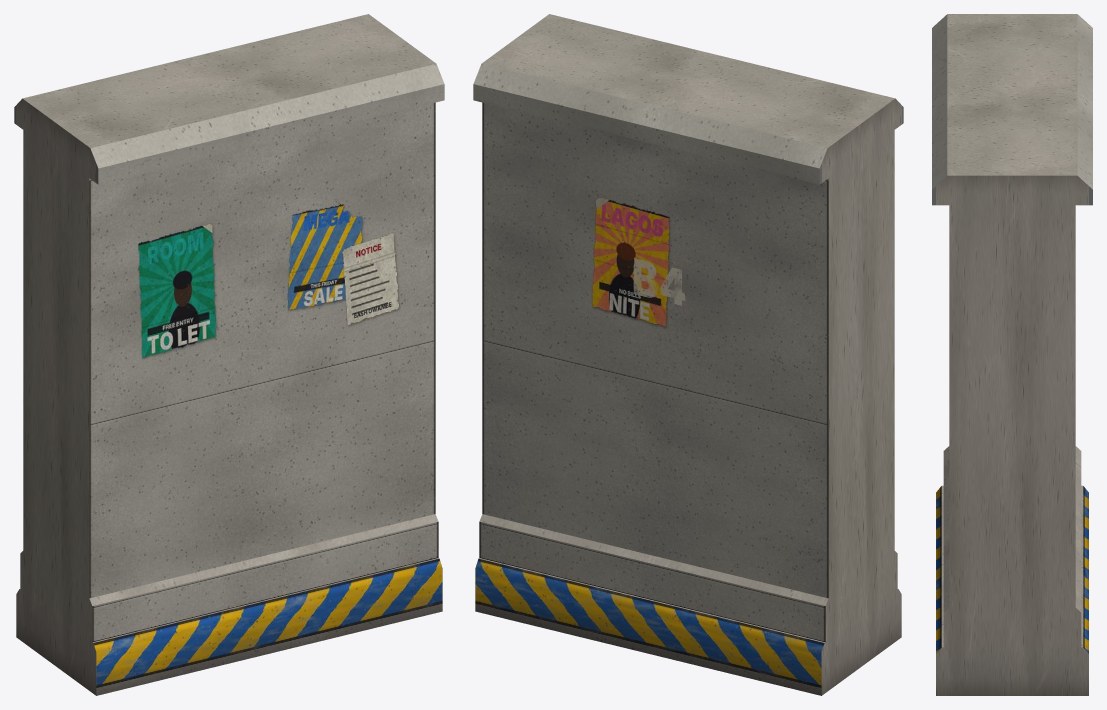
File: env_wall.glb
3 renders of one model, left to right at view 1: azimuth 30°, elevation 25°; view 2: azimuth 150°, elevation 25°; view 3: azimuth 270°, elevation 25°, orthographic. The views are drawn at different scales.
Parts seen in each view (by area): view 1: env_wall_body; view 2: env_wall_body; view 3: env_wall_body.
Part boxes in pixels (x1=…): env_wall_body: x1=14, y1=14, x2=444, y2=695; env_wall_body: x1=473, y1=14, x2=903, y2=695; env_wall_body: x1=932, y1=14, x2=1092, y2=695.
Size of the model in its own units: 1 by 1.5 by 0.42.
1 material, 1 textured.
